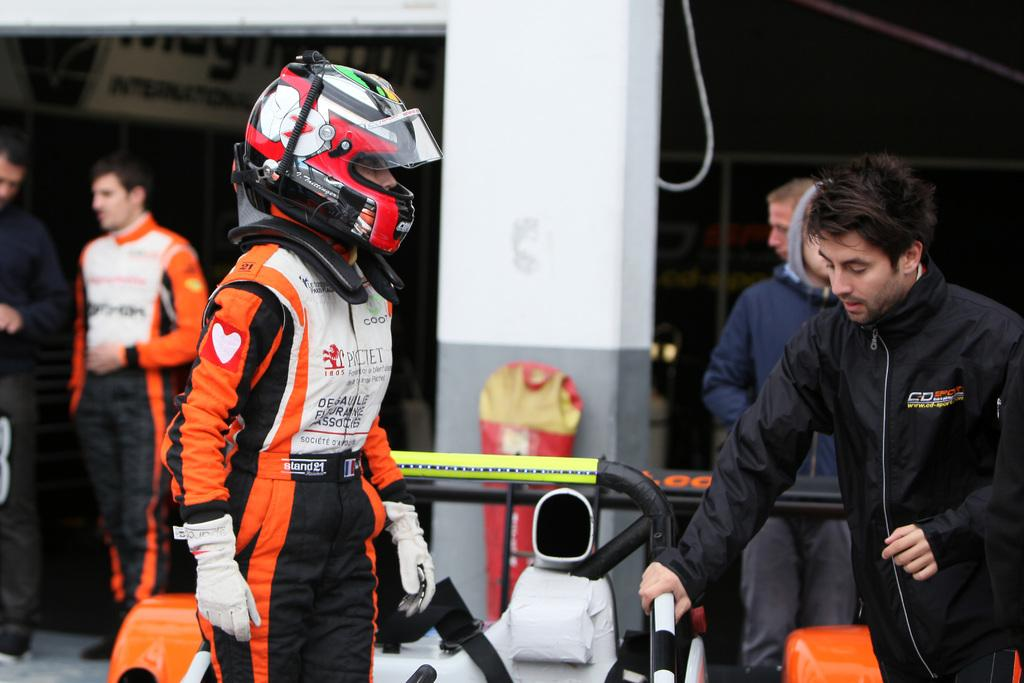helmet: (242, 62, 445, 256)
nohelmet: (809, 156, 937, 328), (90, 157, 152, 237)
